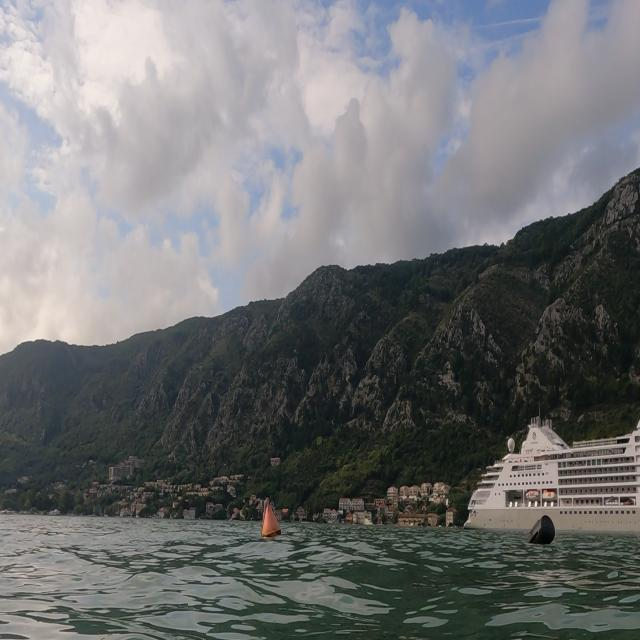boat: (462, 406, 638, 544)
buoy: (255, 484, 287, 554), (524, 511, 558, 548)
